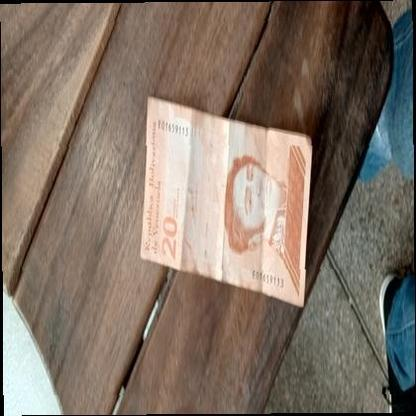twenty-front-vef: (139, 95, 313, 307)
